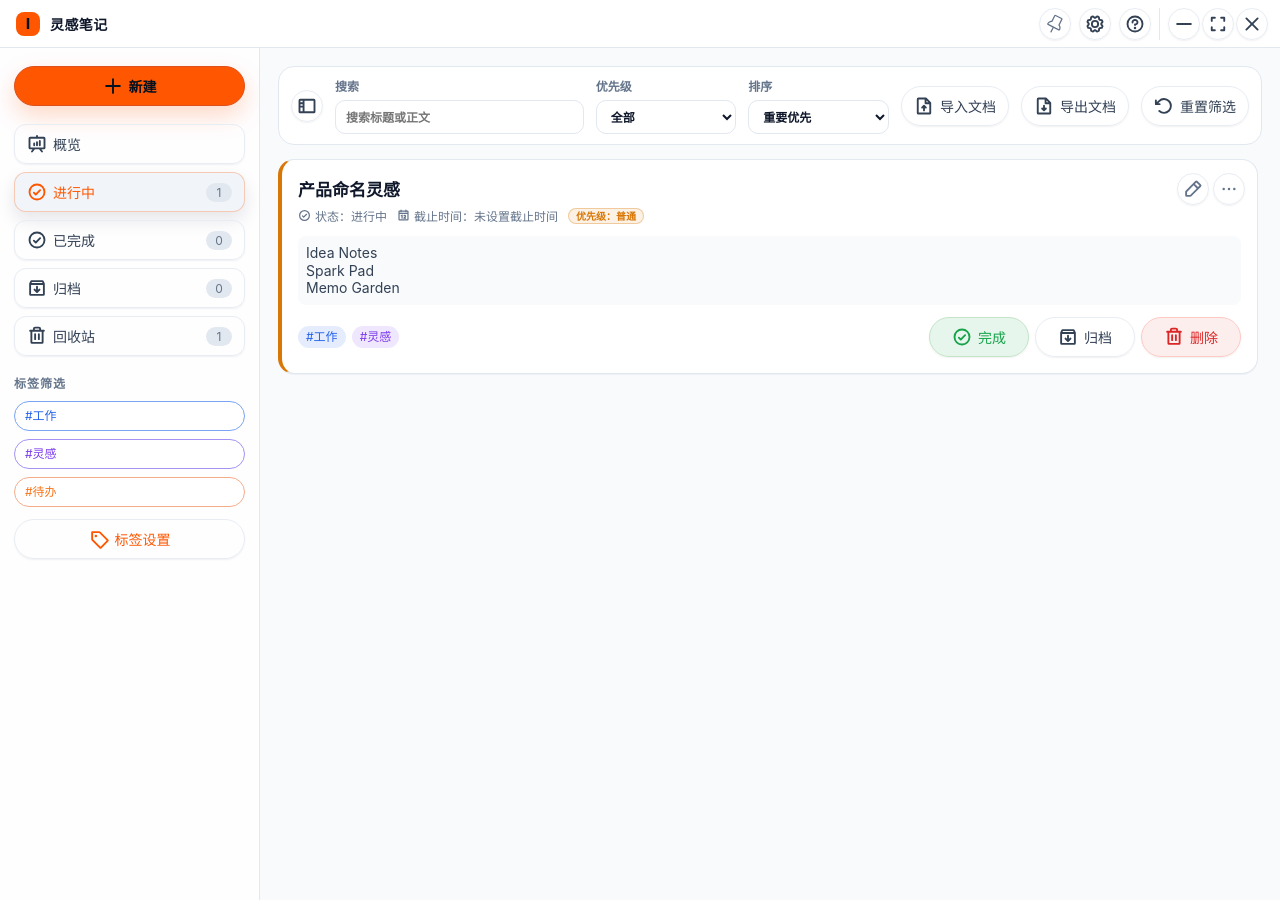
Scenario: App trash failure › 彻底删除保存失败时保留确认弹窗和回收站笔记并显示错误提示
This screenshot has width=1280, height=900.
Click the button "回收站 1" at [130, 336], box [14,316,245,356]
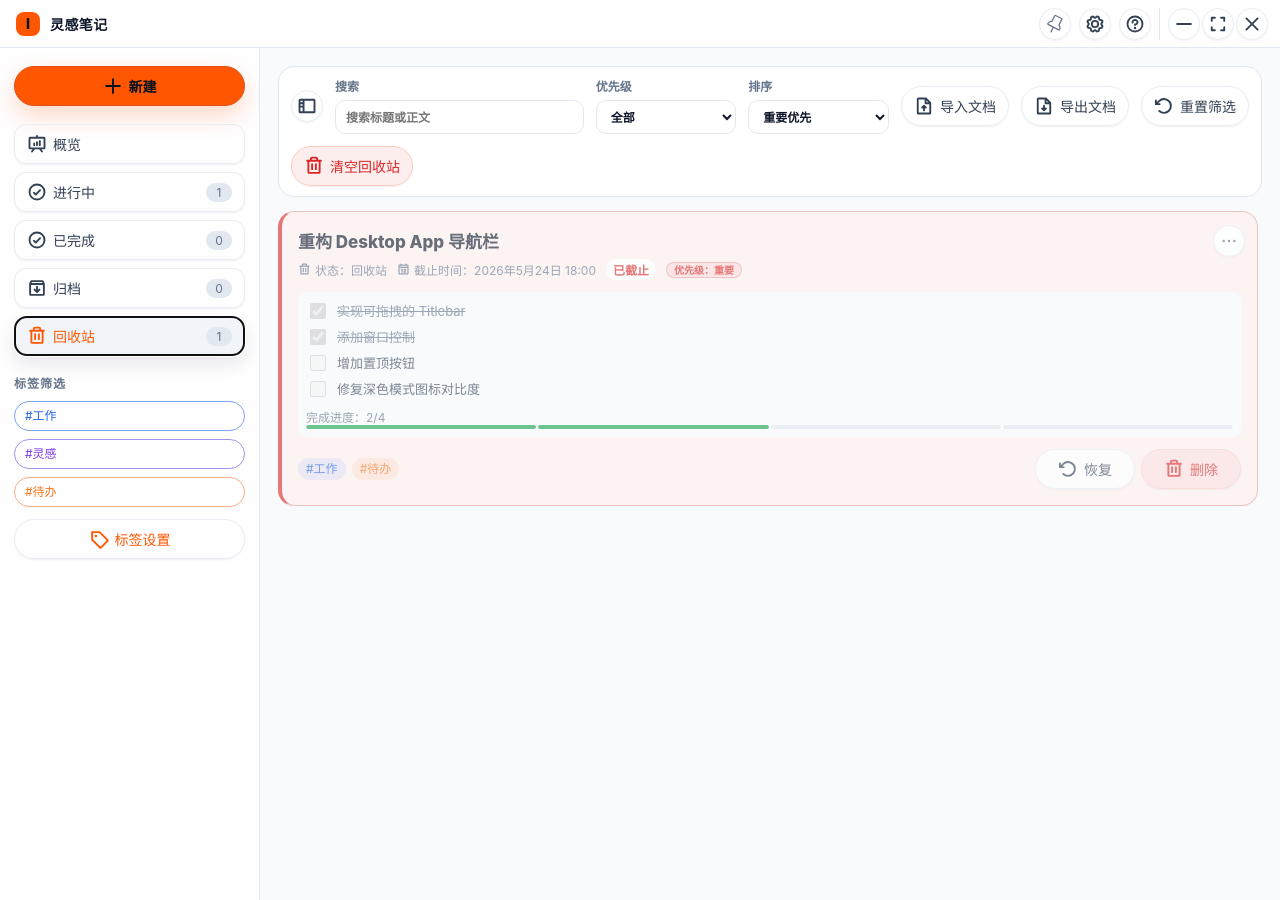
Click the button "删除" at [1191, 469], box [1141,449,1241,489]
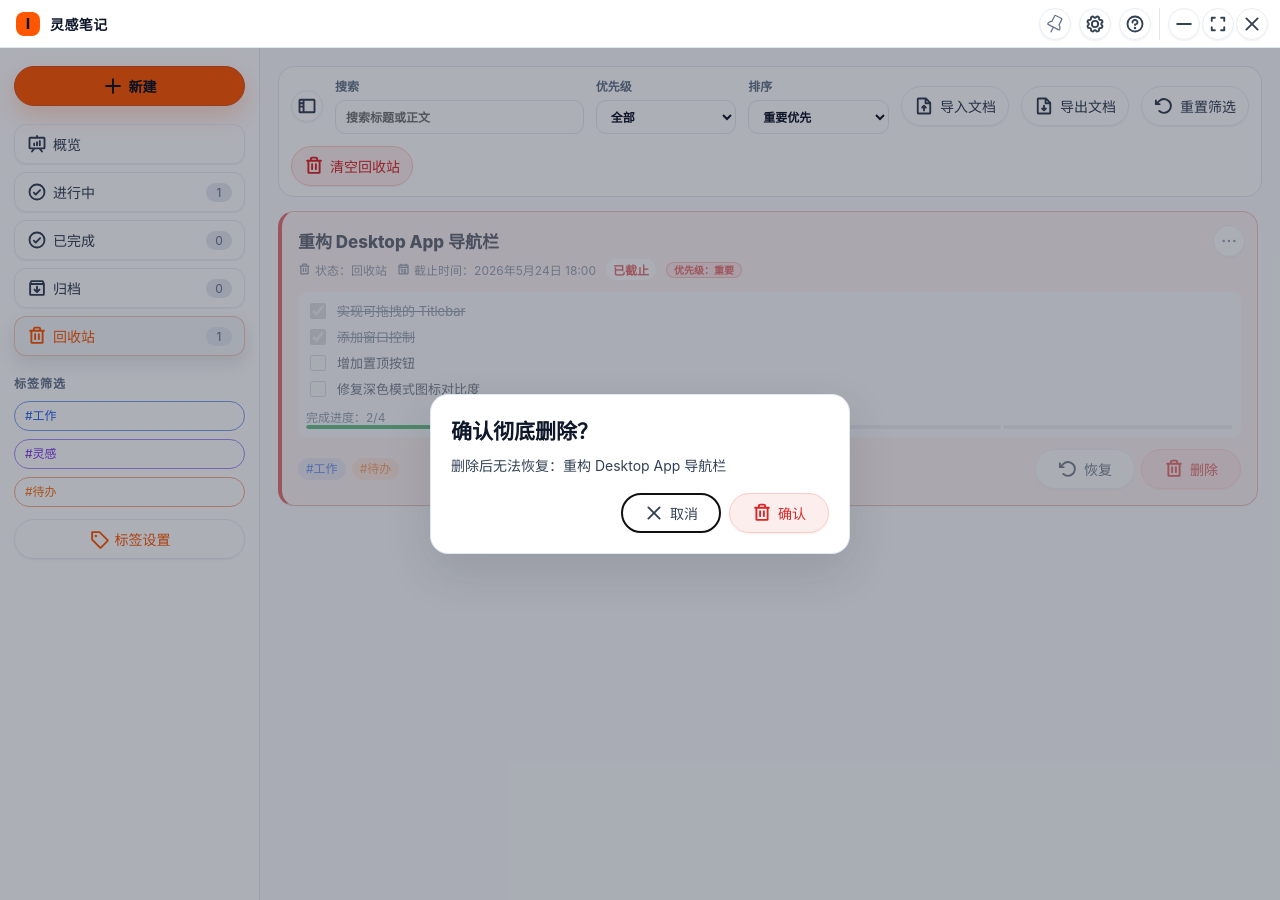
Click the button "确认" at [779, 513], box [729,493,829,533]
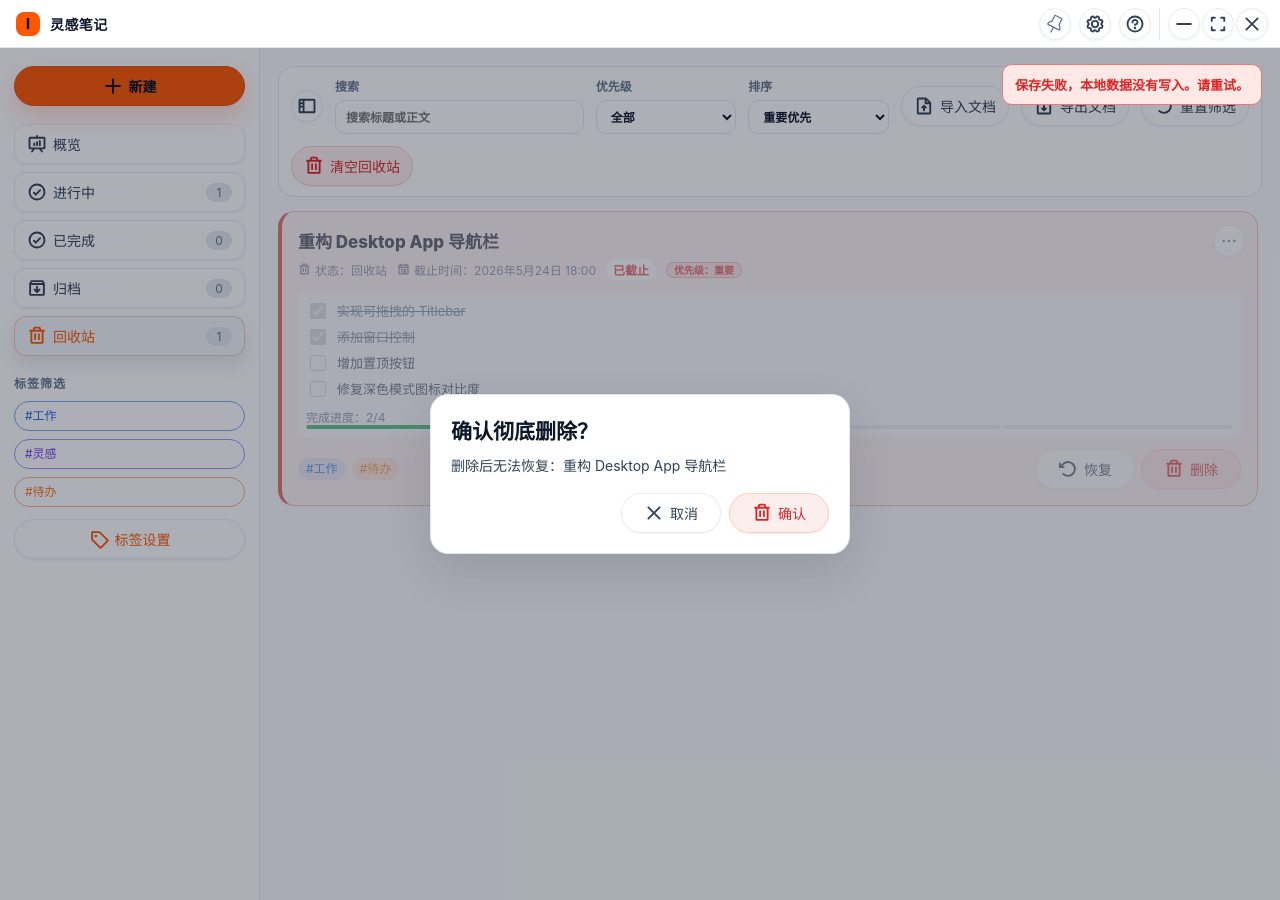
Expected: the dialog "确认彻底删除？" is shown, [430,394,850,554]
Expected: the heading "重构 Desktop App 导航栏" is shown, [298,232,499,252]
Expected: the message reads "保存失败，本地数据没有写入。请重试。", [1015,77,1249,93]
